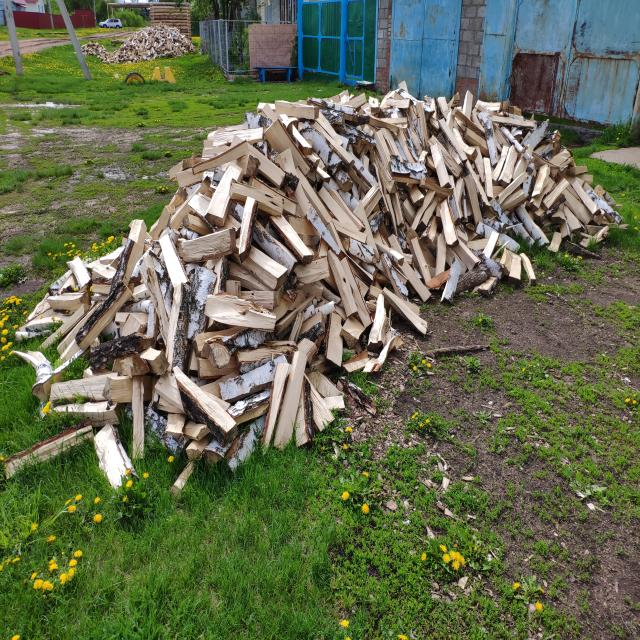entulho: (150, 2, 190, 40), (252, 67, 294, 83), (111, 39, 126, 45)
restos de madeira: (173, 366, 238, 445), (4, 424, 93, 476), (344, 301, 407, 373), (75, 278, 136, 352), (138, 256, 174, 356), (89, 422, 140, 492), (301, 125, 355, 187), (279, 288, 339, 343), (258, 360, 295, 449), (250, 216, 298, 274), (224, 418, 272, 476), (120, 26, 195, 63), (204, 164, 245, 230), (318, 186, 366, 242), (46, 396, 125, 428), (384, 284, 432, 336), (186, 266, 218, 342), (51, 372, 118, 407), (52, 303, 96, 356), (290, 173, 330, 231), (16, 343, 56, 401), (340, 256, 371, 327), (208, 293, 270, 328), (287, 349, 311, 439), (262, 112, 302, 166), (283, 251, 331, 294), (136, 349, 179, 395), (175, 229, 237, 260), (158, 233, 189, 292), (120, 220, 148, 285), (206, 170, 238, 226), (311, 113, 348, 161), (317, 91, 380, 119), (54, 256, 106, 289), (235, 182, 282, 218), (512, 201, 548, 246), (175, 189, 209, 236), (165, 279, 184, 363), (450, 232, 484, 277), (235, 195, 258, 261), (439, 117, 470, 164), (489, 198, 522, 241), (561, 180, 592, 225), (197, 142, 240, 173), (436, 198, 459, 250), (410, 237, 434, 286), (132, 378, 146, 462), (590, 185, 620, 224), (217, 127, 263, 152), (429, 140, 451, 192), (358, 181, 384, 225), (228, 399, 266, 429), (411, 192, 438, 234), (241, 347, 294, 368), (374, 127, 401, 168), (324, 311, 344, 365), (466, 169, 483, 231), (169, 461, 198, 496), (192, 329, 226, 358), (46, 290, 88, 313), (105, 374, 137, 404), (521, 119, 550, 152), (376, 238, 406, 269), (441, 256, 460, 304), (388, 190, 406, 239), (413, 99, 429, 152), (25, 296, 55, 324), (185, 432, 212, 461), (150, 203, 172, 237), (175, 166, 206, 189), (490, 115, 534, 131), (531, 163, 550, 200), (279, 102, 318, 120), (83, 41, 116, 62), (493, 143, 510, 183), (500, 248, 518, 285), (507, 155, 529, 184), (119, 314, 145, 338), (89, 262, 120, 282), (165, 412, 187, 440), (473, 276, 500, 298), (453, 175, 465, 222), (520, 252, 537, 285), (482, 231, 500, 261), (370, 116, 406, 131), (211, 255, 225, 292), (483, 153, 494, 200), (548, 152, 571, 170), (546, 130, 564, 152), (462, 89, 473, 120), (474, 100, 502, 112), (382, 99, 410, 110), (548, 232, 562, 254), (226, 280, 242, 299), (438, 96, 450, 121), (560, 218, 572, 242)
